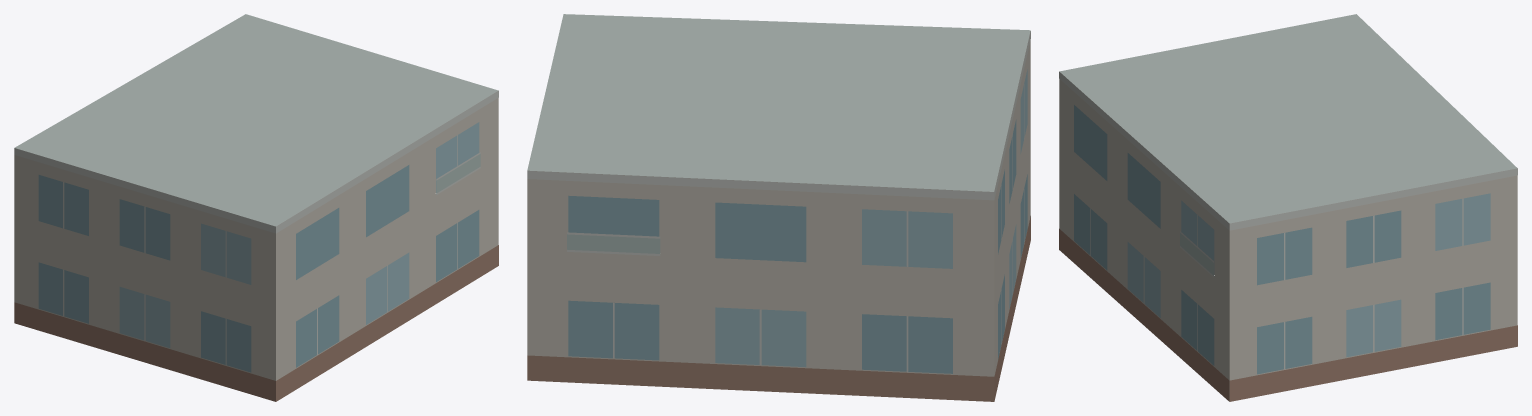
File: survey-upis-32890066.glb
3 renders of one model, left to right at view 1: azimuth 30°, elevation 25°; view 2: azimuth 150°, elevation 25°; view 3: azimuth 270°, elevation 25°, orthographic. The views are drawn at different scales.
Parts seen in each view (by area): view 1: survey-upis-32890066.tmp; view 2: survey-upis-32890066.tmp; view 3: survey-upis-32890066.tmp.
Part boxes in pixels (box(x1,y1,x2,y2)): survey-upis-32890066.tmp: box(14, 14, 498, 401); survey-upis-32890066.tmp: box(527, 14, 1030, 401); survey-upis-32890066.tmp: box(1059, 14, 1517, 401).
Bounding box in the file's own units: 15.38 × 6.1 × 14.23.
